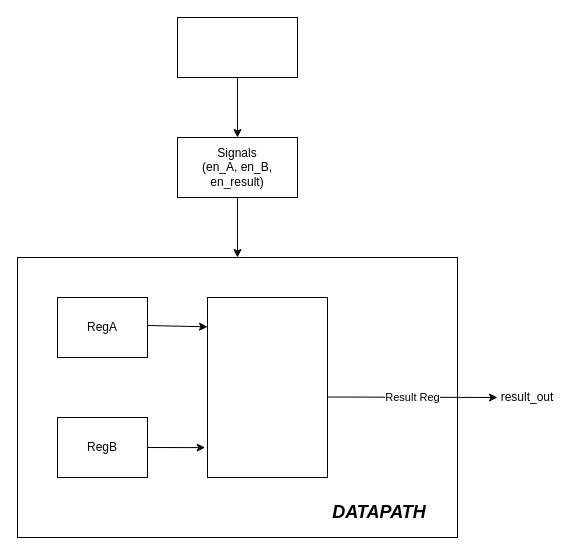
Image size: 575x555. Some labels were removed from this diagram. The shapes that lost their labels are listed below. From the top down, each one's centre as x and y in pixels, then its label:
At pixel 237 47: "FSM Control Unit".
At pixel 267 387: "ALU".
